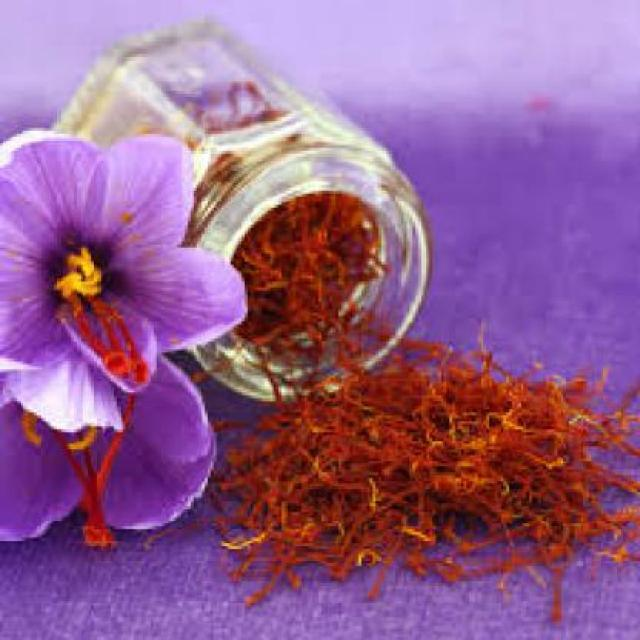saffron open: (2, 138, 245, 431), (0, 356, 215, 547)
